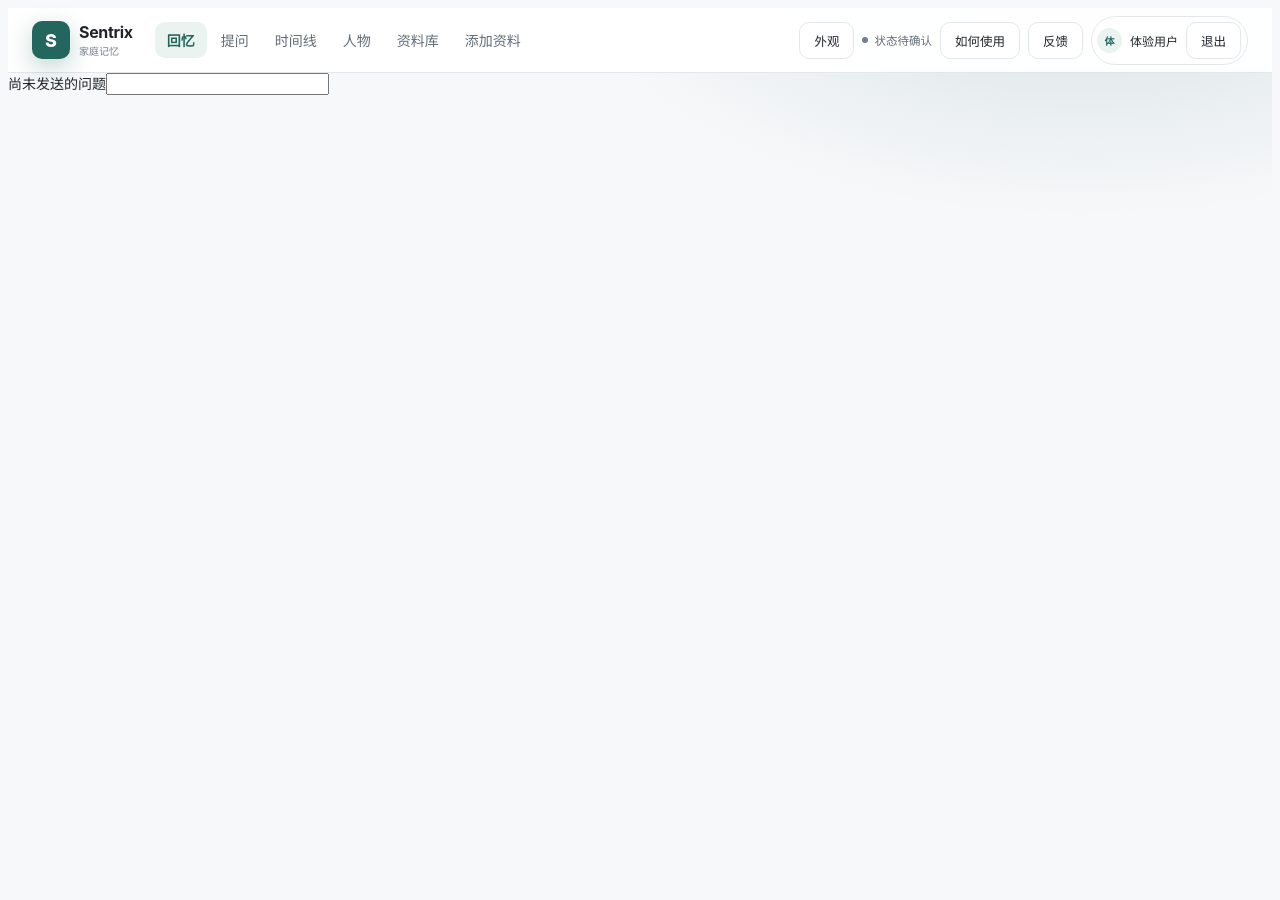
Scenario: 三套外观与原页面状态 › 本机存储失败时仍切换，且告知不能保存
Click the button "外观": (827, 40) [799, 22, 854, 58]
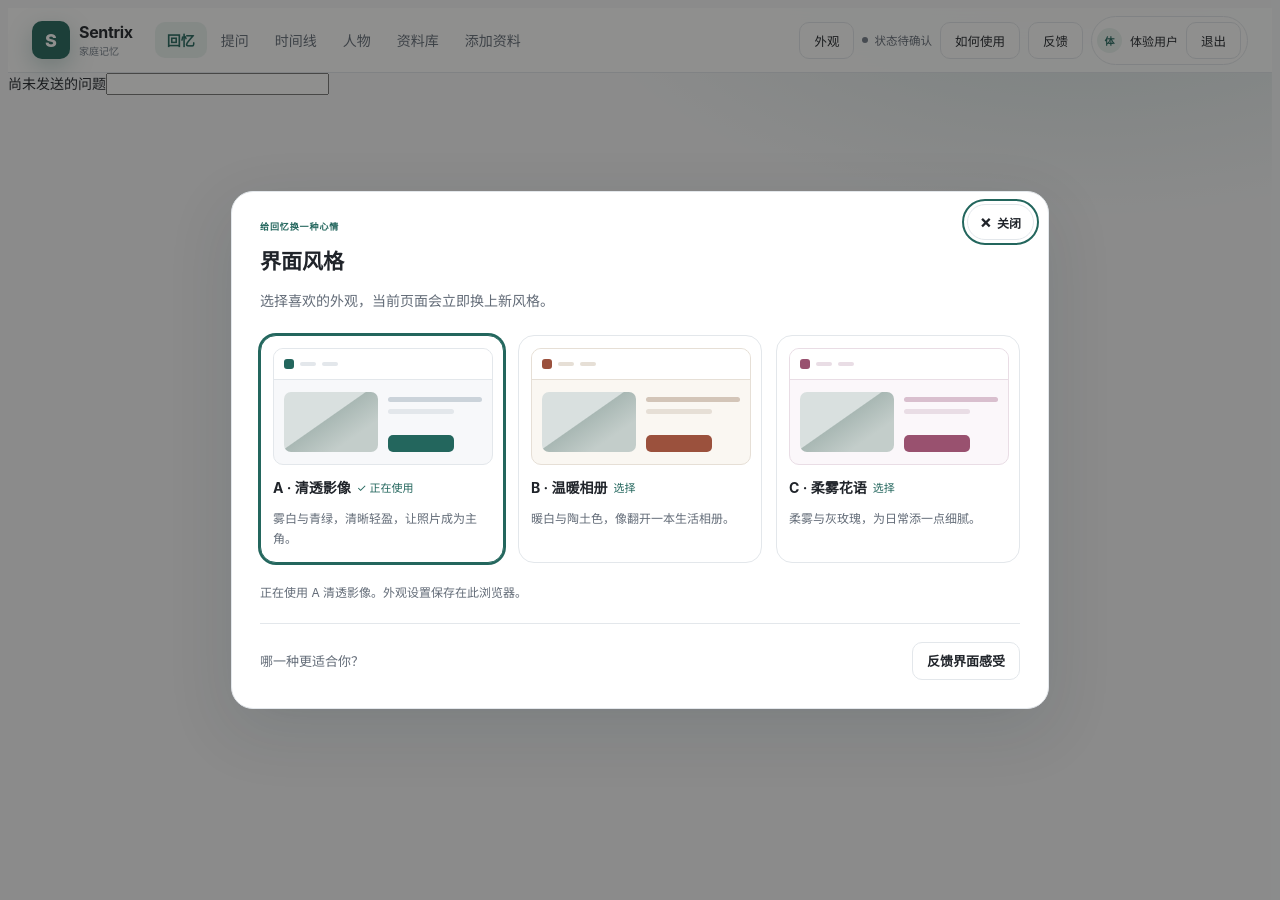
Click the button "B · 温暖相册 选择 暖白与陶土色，像翻开一本生活相册。": (640, 449) [518, 335, 762, 563]
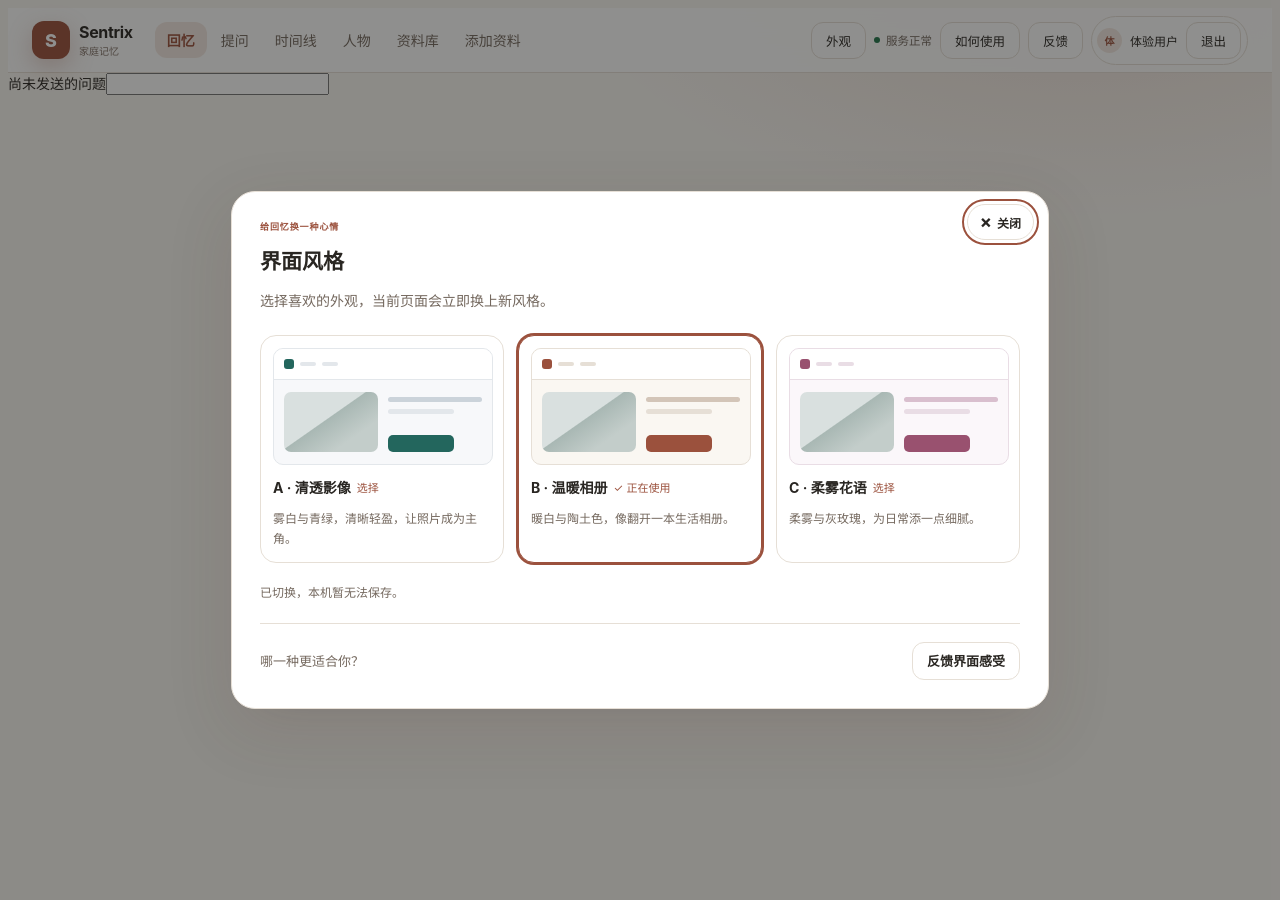
Expected: the message shows "本机暂无法保存", [260, 585, 404, 600]
